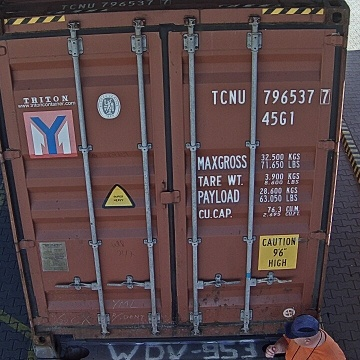serial_id: (212, 88, 330, 104)
